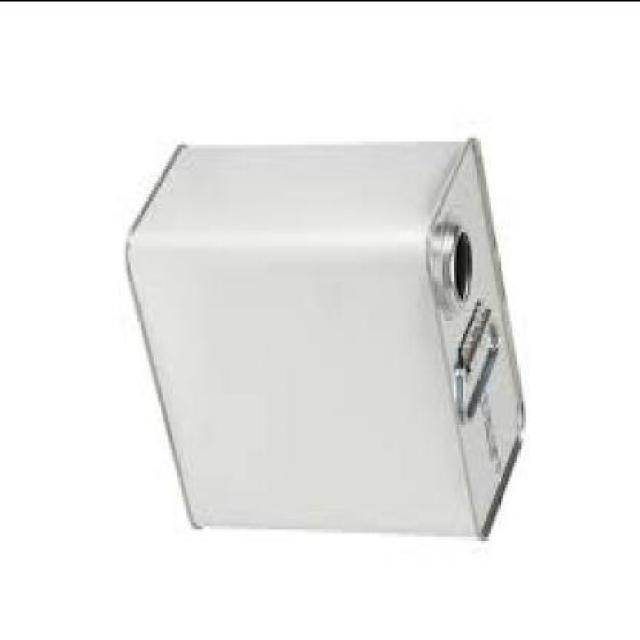metal: (131, 132, 531, 536)
